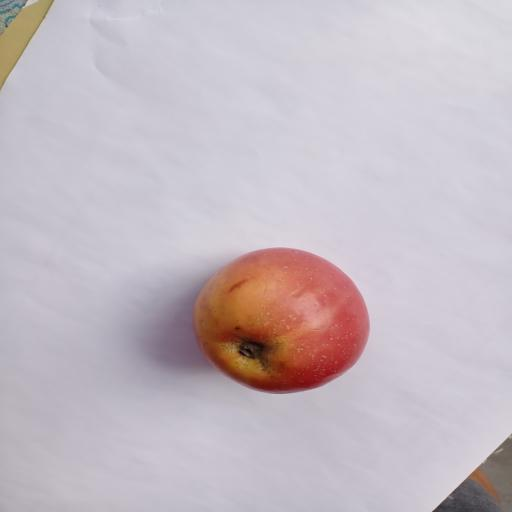apple-ripe: (182, 242, 373, 408)
